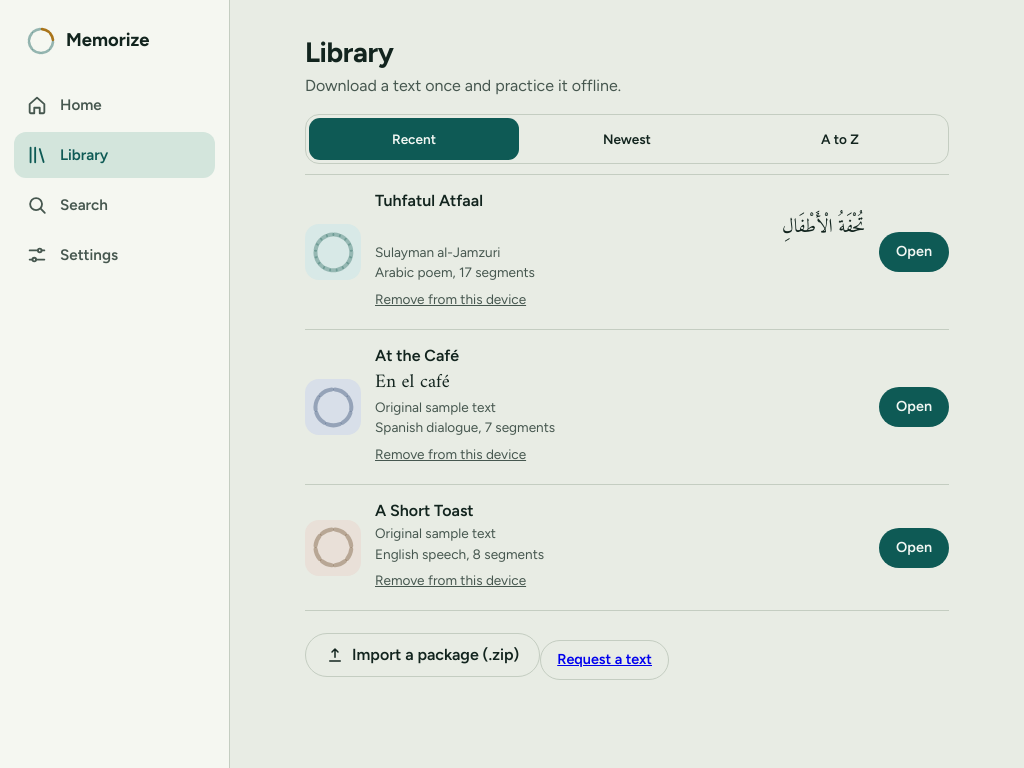
Scenario: Library › asks before removing, and only removes on confirm
Click the button "Remove from this device" below "English speech, 8 segments".
click(451, 580)  # box x1=375 y1=564 x2=526 y2=596
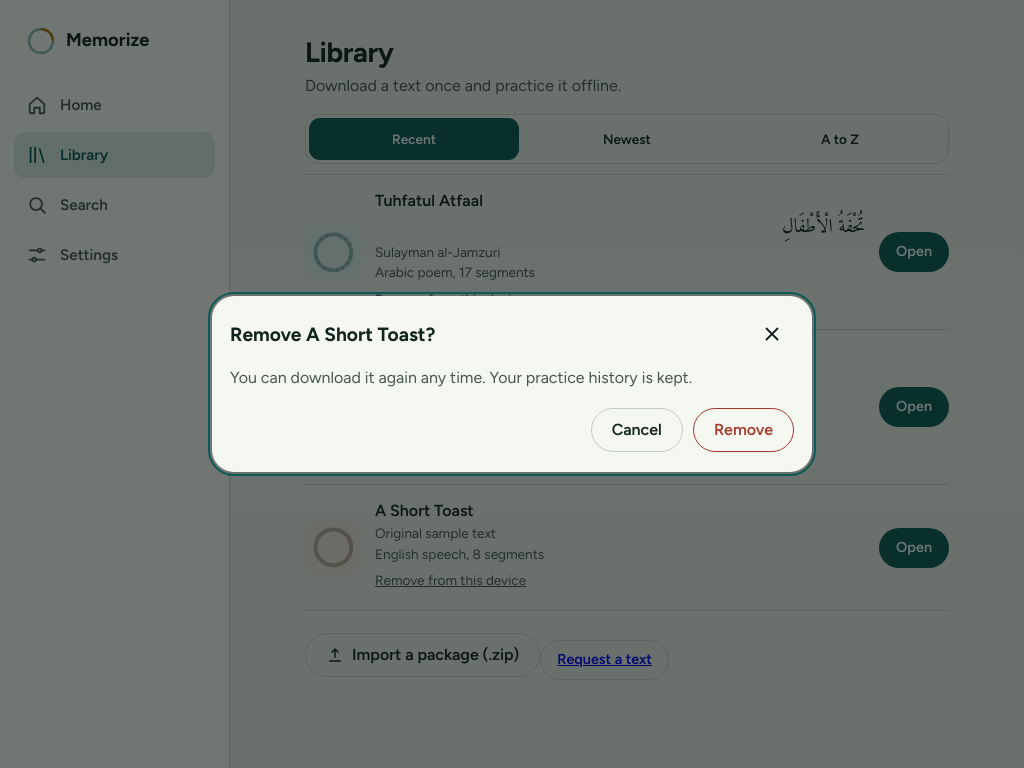
Check: the dialog "Remove A Short Toast?" shows "You can download it again any time. Your practice history is kept.", box x1=230 y1=368 x2=692 y2=387
Click the button "Cancel".
click(637, 430)  # box x1=591 y1=408 x2=683 y2=452
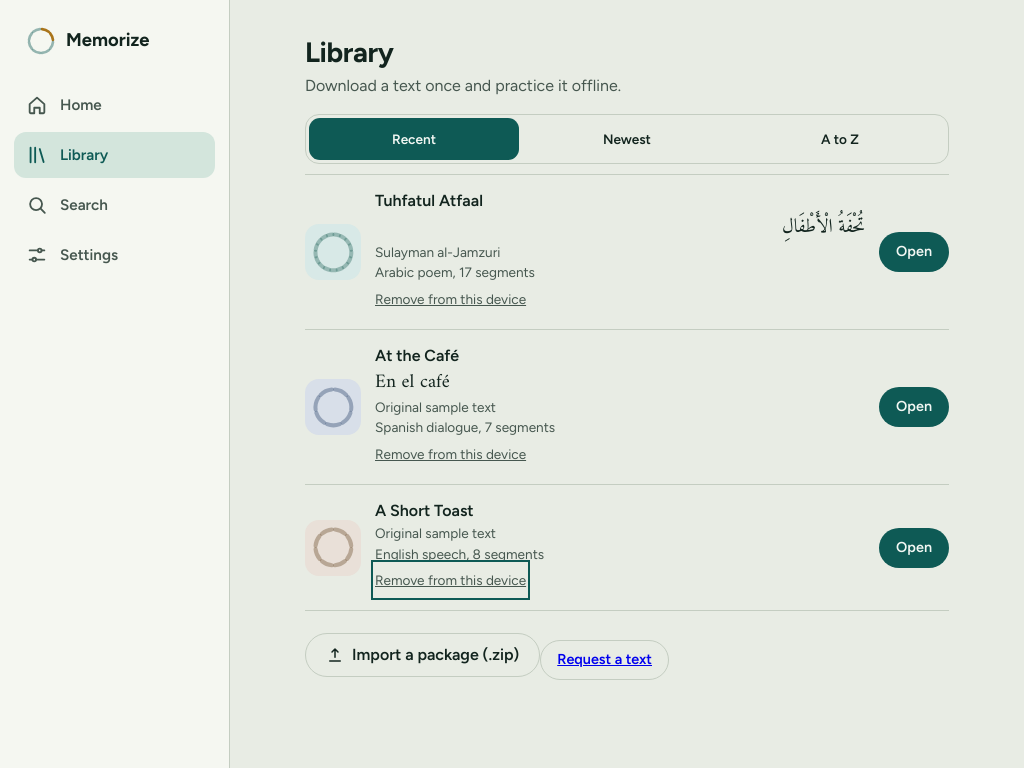
Check: the dialog is gone
Click the button "Remove from this device" below "English speech, 8 segments".
click(451, 580)  # box x1=375 y1=564 x2=526 y2=596
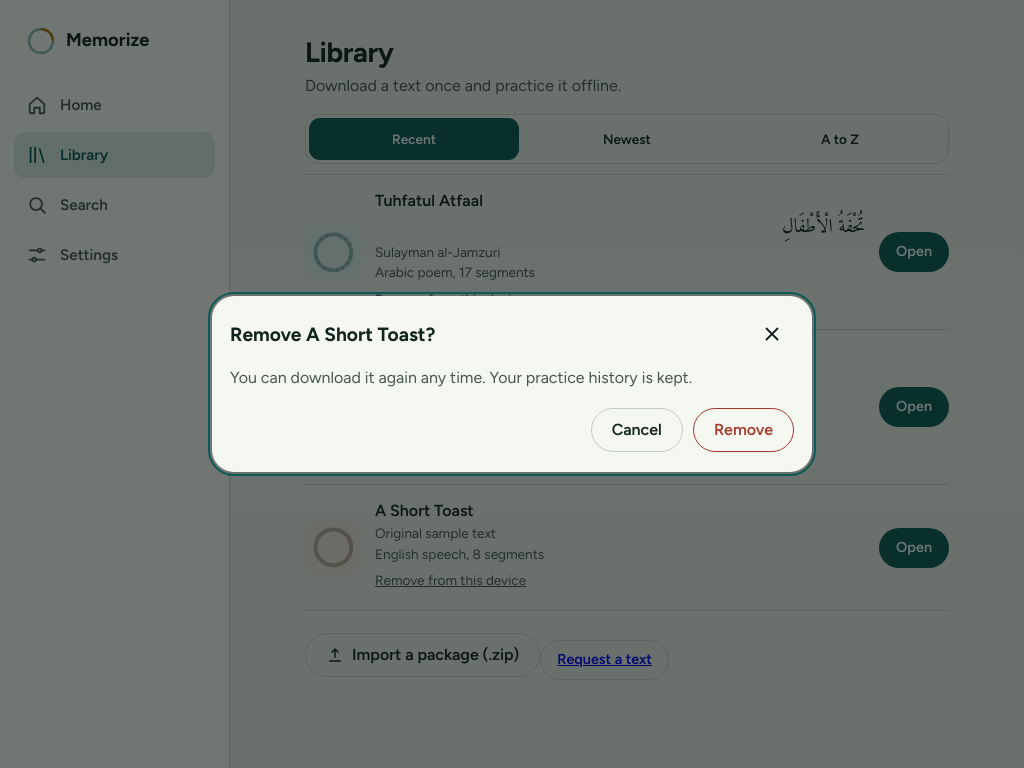
Click the button "Remove".
click(743, 430)  # box x1=693 y1=408 x2=794 y2=452
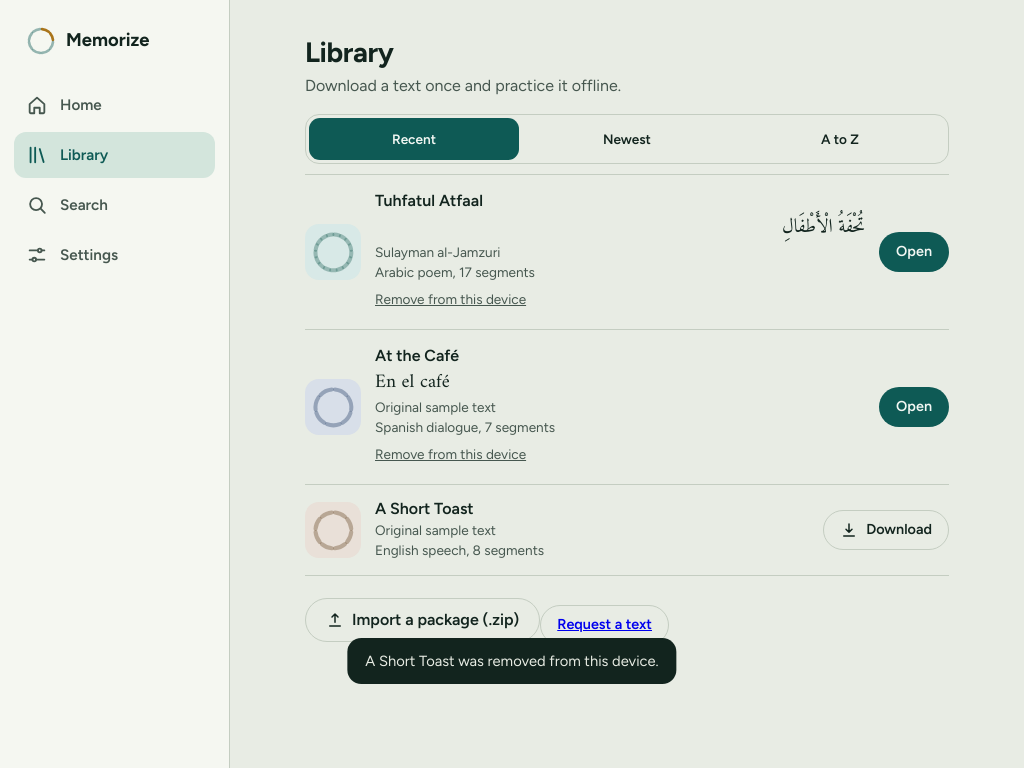
Check: the text "A Short Toast was removed from this device." is shown, box x1=365 y1=650 x2=659 y2=672
Check: the button "Download" is shown, box x1=823 y1=510 x2=949 y2=550
